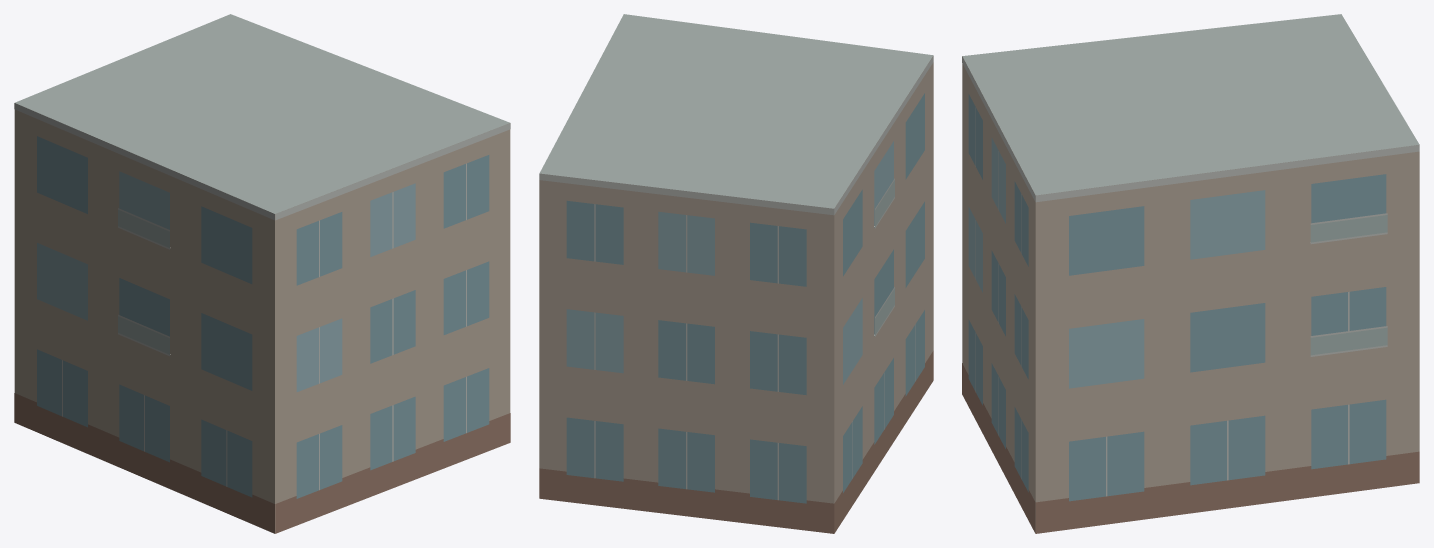
Rendered from survey-upis-32946231.glb.
3 views of the same model, side by side, from view 1: azimuth 30°, elevation 25°; view 2: azimuth 150°, elevation 25°; view 3: azimuth 270°, elevation 25° (orthographic). The views are drawn at different scales.
Parts seen in each view (by area): view 1: survey-upis-32946231.tmp; view 2: survey-upis-32946231.tmp; view 3: survey-upis-32946231.tmp.
Part boxes in pixels (x1=…): survey-upis-32946231.tmp: x1=14, y1=14, x2=510, y2=533; survey-upis-32946231.tmp: x1=539, y1=14, x2=933, y2=533; survey-upis-32946231.tmp: x1=962, y1=14, x2=1419, y2=533.
Bounding box in the file's own units: 13.93 × 12.1 × 14.83.
